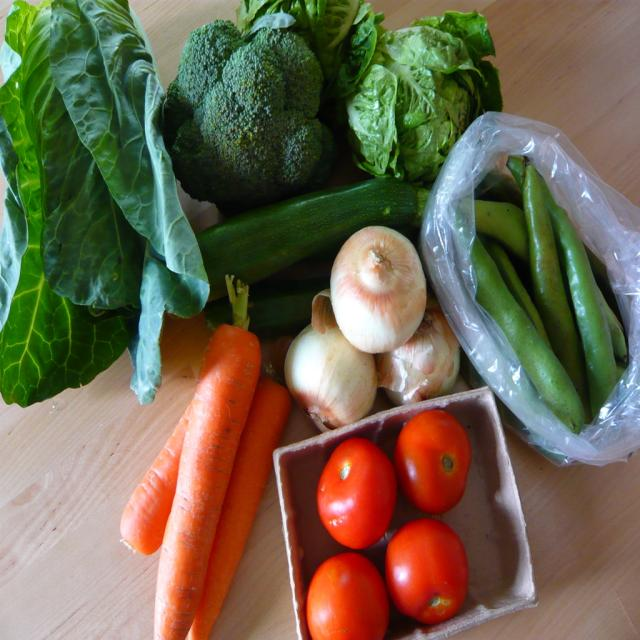carrot: (152, 271, 262, 639)
